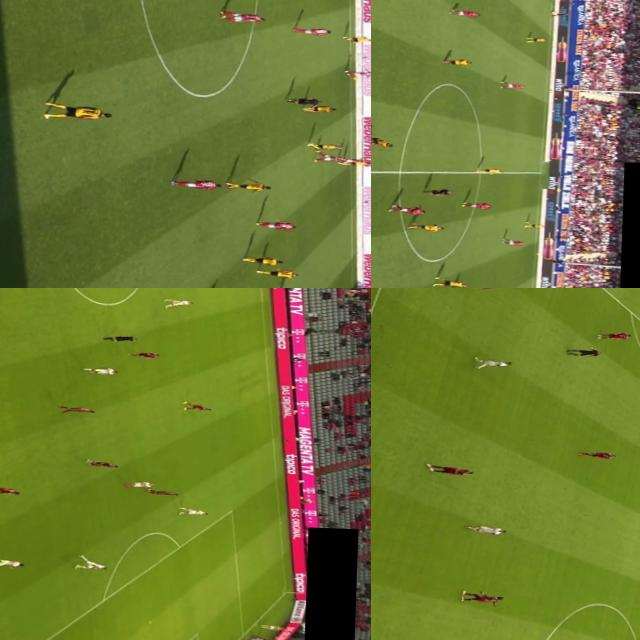ball: (348, 76, 358, 81)
player: (42, 104, 112, 120), (430, 466, 474, 480), (465, 522, 509, 536), (458, 589, 504, 602), (74, 557, 112, 572), (227, 180, 271, 192), (169, 180, 221, 190), (252, 267, 298, 278), (472, 356, 514, 367), (142, 486, 180, 498), (172, 507, 211, 518), (253, 220, 295, 230), (240, 256, 282, 266), (291, 26, 332, 36), (388, 204, 423, 215), (594, 330, 628, 341), (82, 460, 118, 470), (223, 13, 261, 22), (313, 152, 347, 162), (61, 404, 95, 414), (0, 555, 22, 570), (130, 348, 161, 358), (124, 480, 158, 489), (184, 403, 218, 412), (302, 105, 334, 114), (84, 366, 116, 375), (582, 451, 614, 460), (308, 142, 342, 150), (0, 484, 22, 496), (343, 69, 371, 78), (407, 223, 443, 230), (432, 280, 467, 287), (499, 238, 529, 246), (371, 135, 392, 146), (472, 168, 504, 175), (498, 82, 526, 90), (344, 36, 371, 44), (439, 58, 475, 64), (448, 10, 483, 16), (342, 160, 371, 167), (464, 202, 488, 210), (524, 223, 550, 230), (524, 37, 550, 43), (456, 288, 502, 291), (168, 300, 194, 304)
